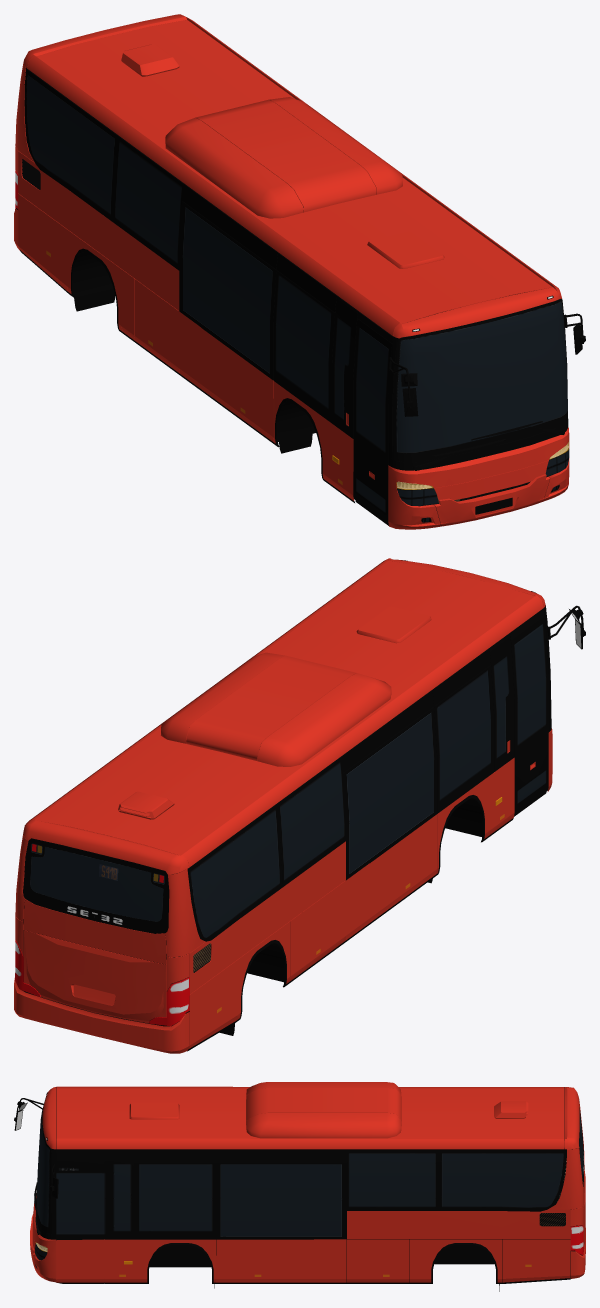
File: Bus.fbx
The picture shows the model from 3 angles, top to bottom: view 1: azimuth 30°, elevation 25°; view 2: azimuth 150°, elevation 25°; view 3: azimuth 270°, elevation 25°; orthographic projection. The views are drawn at different scales.
Visible parts, largest first — view 1: Body Bus, Door Bus; view 2: Body Bus, Door Bus; view 3: Body Bus.
Boxes of the visible parts, left/top/right/bottom form: Body Bus: left=14, top=14, right=585, bottom=529; Door Bus: left=353, top=311, right=392, bottom=525; Body Bus: left=14, top=558, right=585, bottom=1053; Door Bus: left=510, top=609, right=548, bottom=816; Body Bus: left=14, top=1082, right=585, bottom=1291.
Size of the model in its own units: 258 by 287 by 896.
13 materials, 5 textured.
